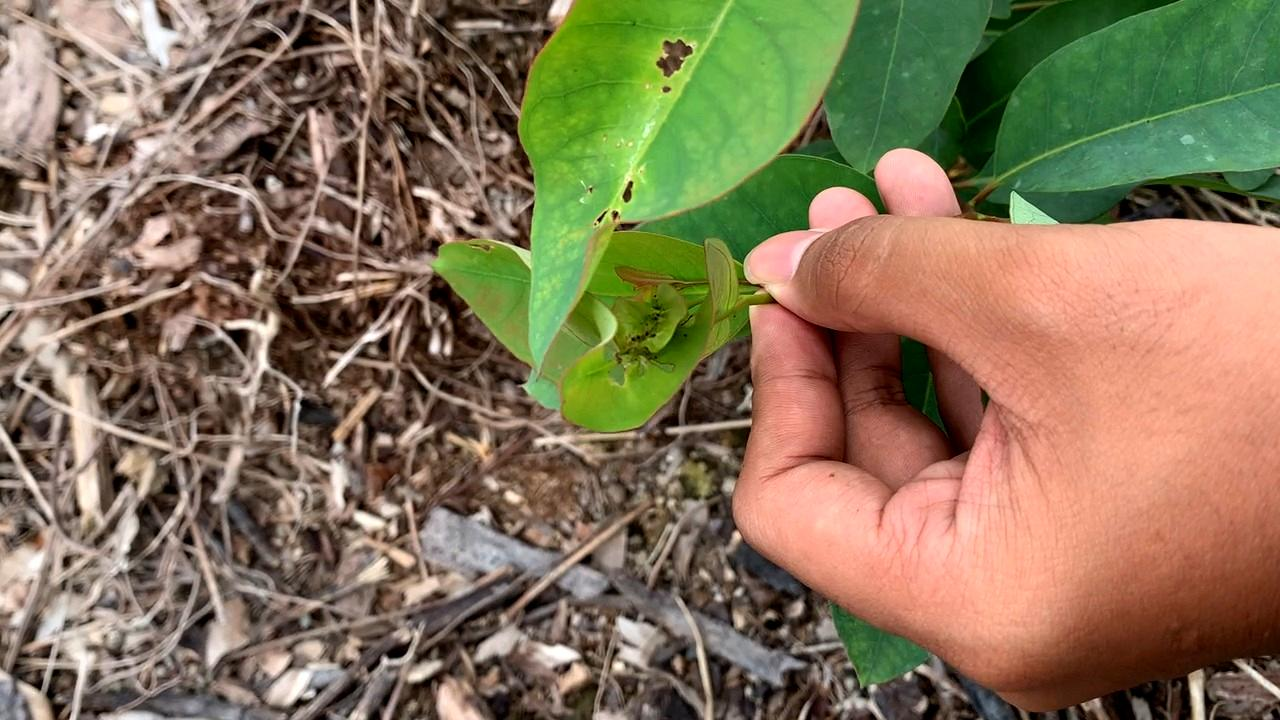Leaf Roller - Leaf: (580, 262, 733, 417)
